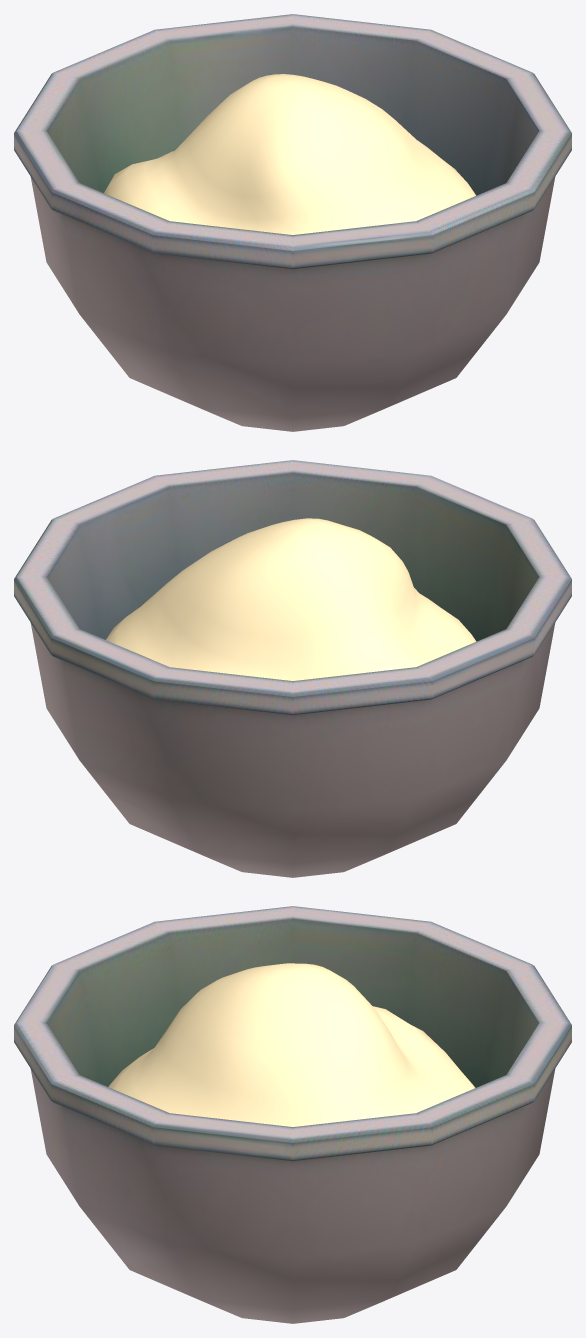
File: mixingBowlDough.glb
3 renders of one model, top to bottom at view 1: azimuth 30°, elevation 25°; view 2: azimuth 150°, elevation 25°; view 3: azimuth 270°, elevation 25°, orthographic.
Visible parts, largest first — view 1: MixingBowl, Sphere; view 2: MixingBowl, Sphere; view 3: MixingBowl, Sphere.
Boxes of the visible parts, left/top/right/bottom form: MixingBowl: left=14, top=14, right=571, bottom=431; Sphere: left=104, top=74, right=475, bottom=234; MixingBowl: left=14, top=460, right=571, bottom=877; Sphere: left=106, top=518, right=476, bottom=680; MixingBowl: left=14, top=906, right=571, bottom=1323; Sphere: left=108, top=963, right=475, bottom=1126.
Size of the model in its own units: 0.3931 by 0.2526 by 0.3931.
2 materials, 2 textured.
